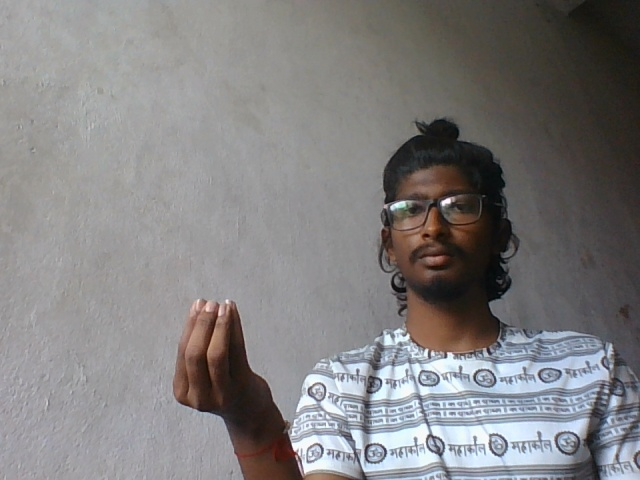Please: (165, 290, 296, 424)
